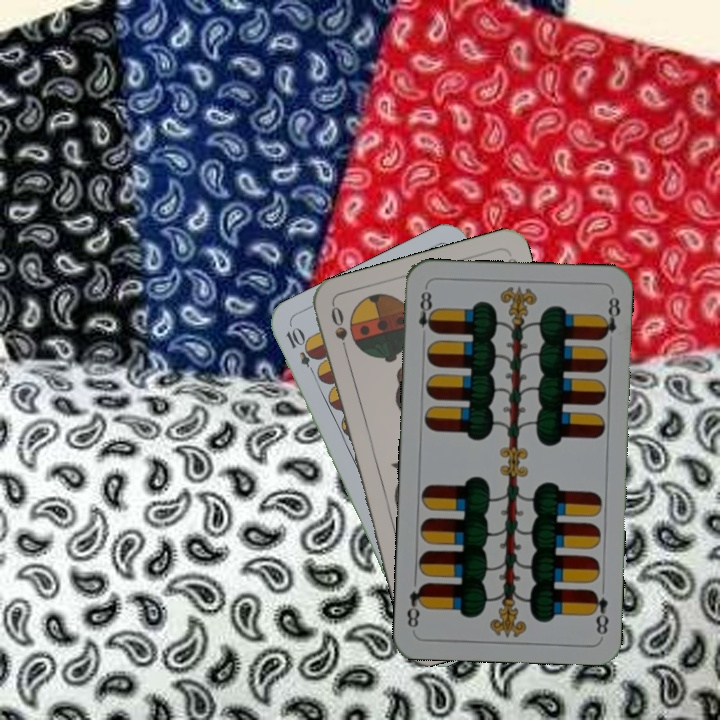E10: (281, 323, 321, 380)
E8: (587, 585, 612, 637), (414, 284, 438, 335)
SO: (327, 302, 352, 361)
